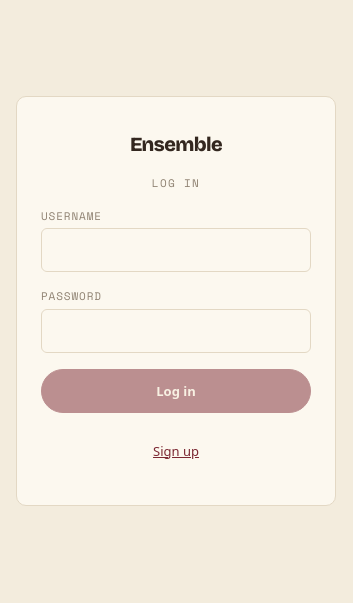
Test: AuthGate › toggles to the sign-up form and back to login
Click the button "Sign up" at x=176, y=451, box x1=41 y1=429 x2=311 y2=473
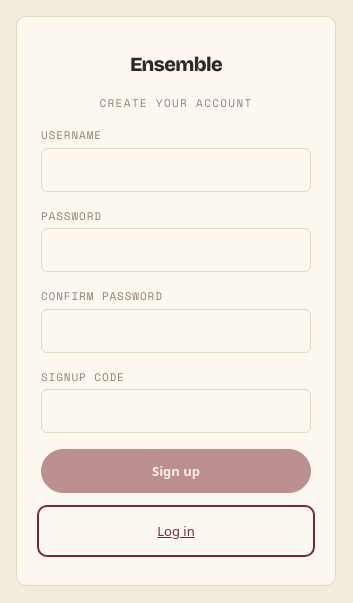
Expected: the field labelled "Username" is shown, x1=41 y1=148 x2=311 y2=192
Now the password field labelled "Signup code" is shown, box x1=41 y1=389 x2=311 y2=433
Click the button "Log in" at x=176, y=531, box x1=41 y1=509 x2=311 y2=553
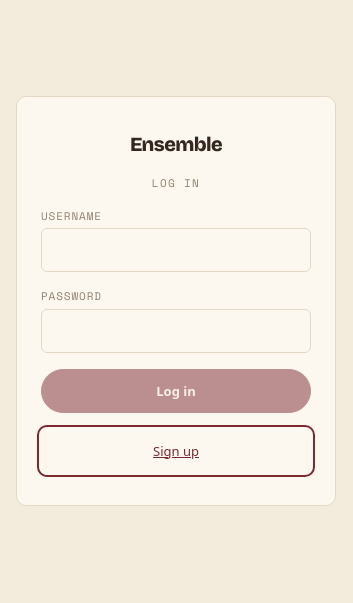
Now the label labelled "Signup code" is gone
